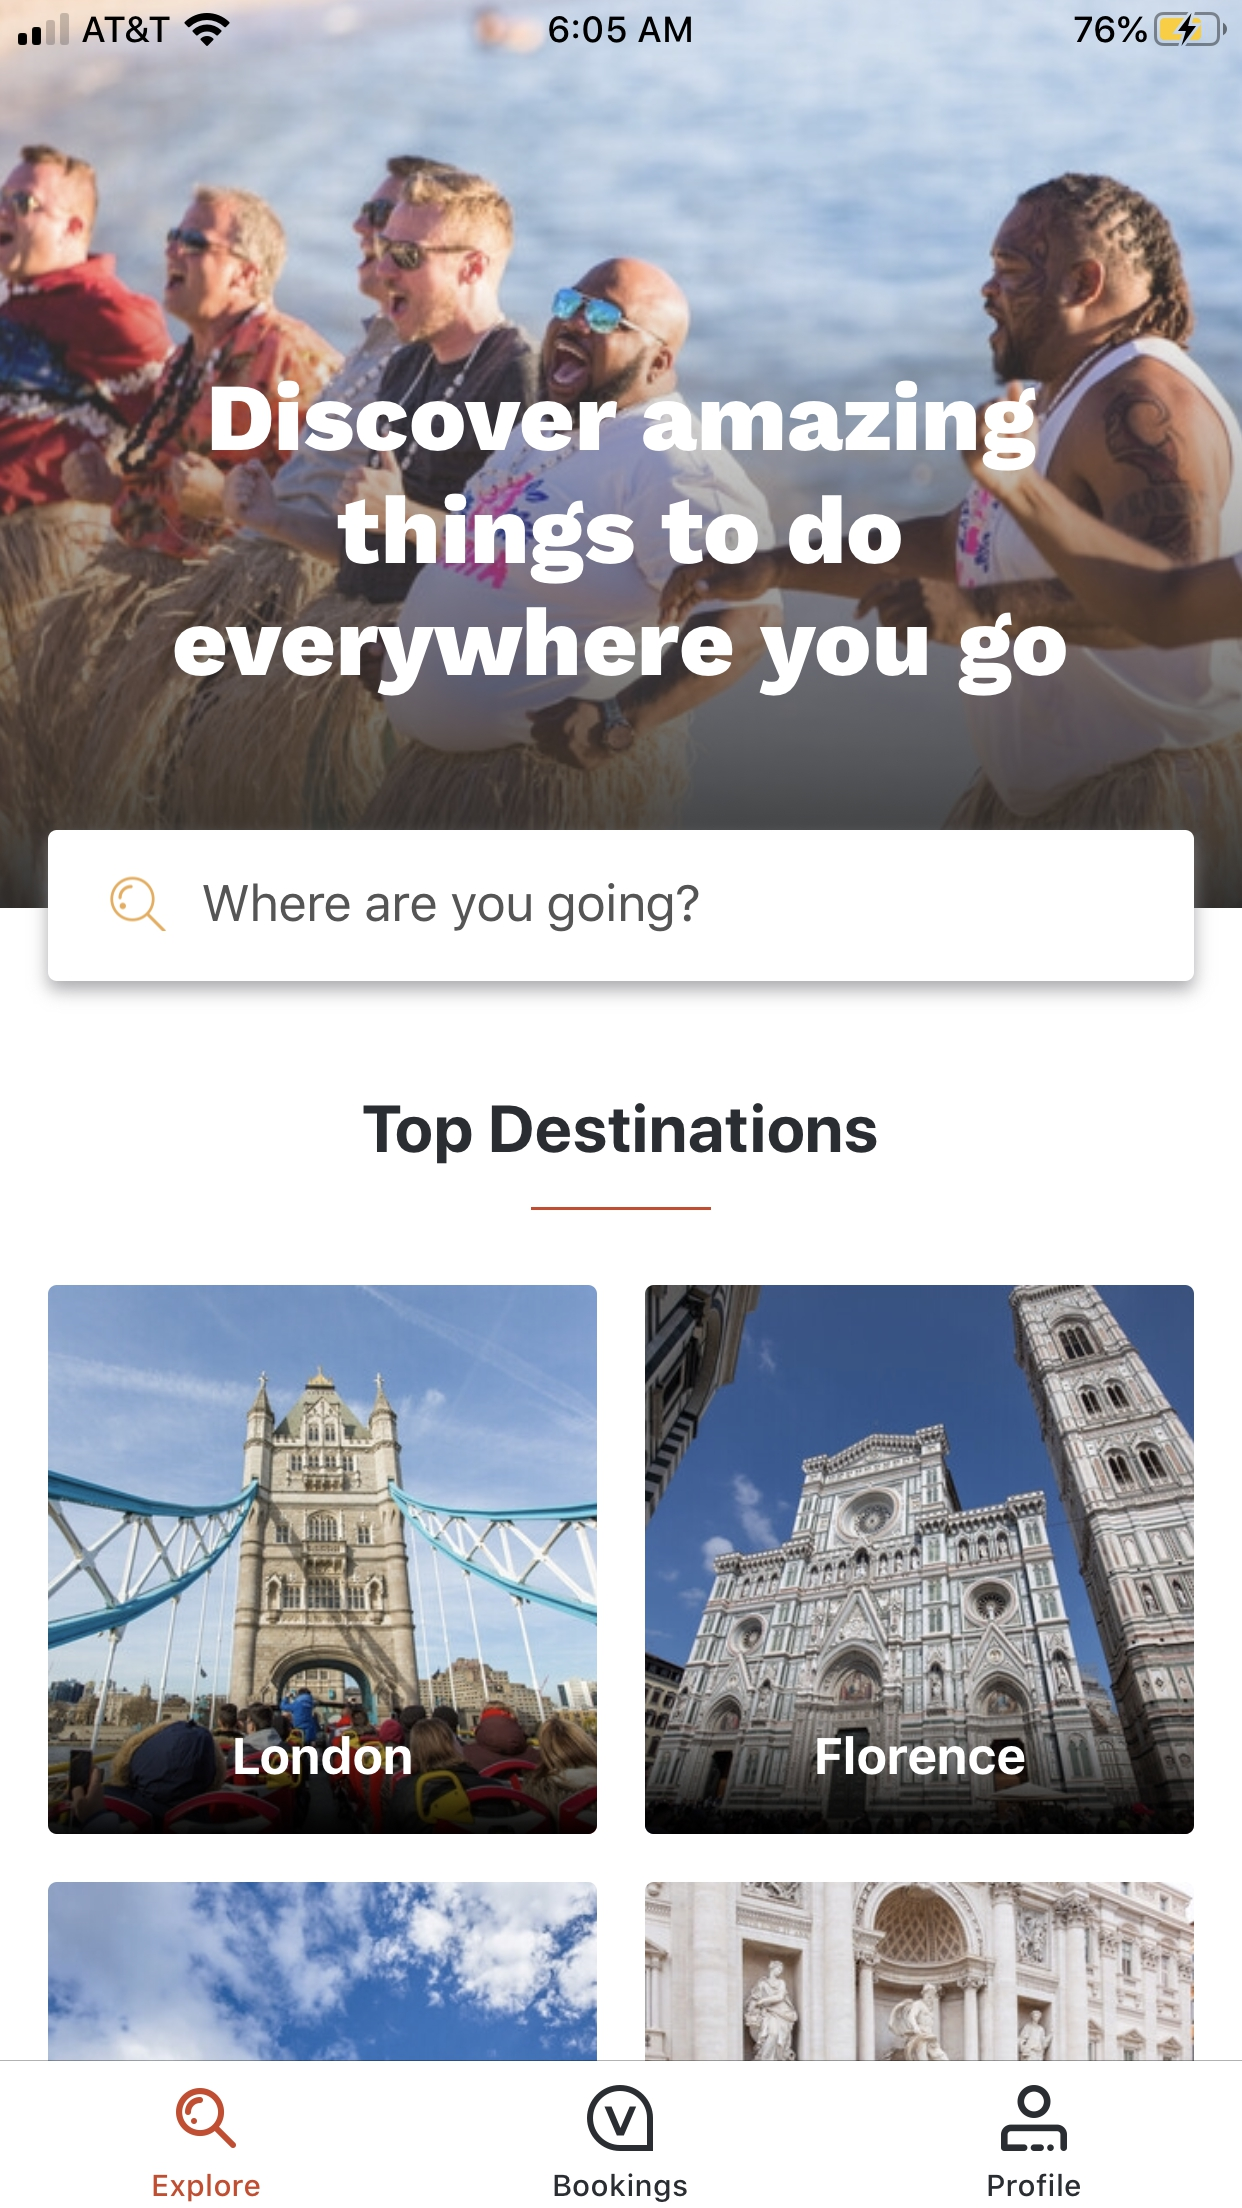EditText: (49, 831, 1193, 983)
Icon: (1001, 2085, 1068, 2150), (176, 2088, 237, 2149), (111, 877, 167, 933)
Image: (2, 2, 1242, 908), (645, 1284, 1195, 1833), (49, 1284, 597, 1835), (645, 1882, 1193, 2061), (49, 1882, 597, 2061), (587, 2084, 655, 2150)
Text: (174, 381, 1068, 698), (362, 1102, 878, 1165), (205, 884, 701, 933), (817, 1735, 1025, 1774), (235, 1735, 412, 1774), (555, 2173, 688, 2202), (155, 2175, 259, 2202), (989, 2173, 1080, 2196)
UpperTaskBar: (2, 2, 1242, 47)
